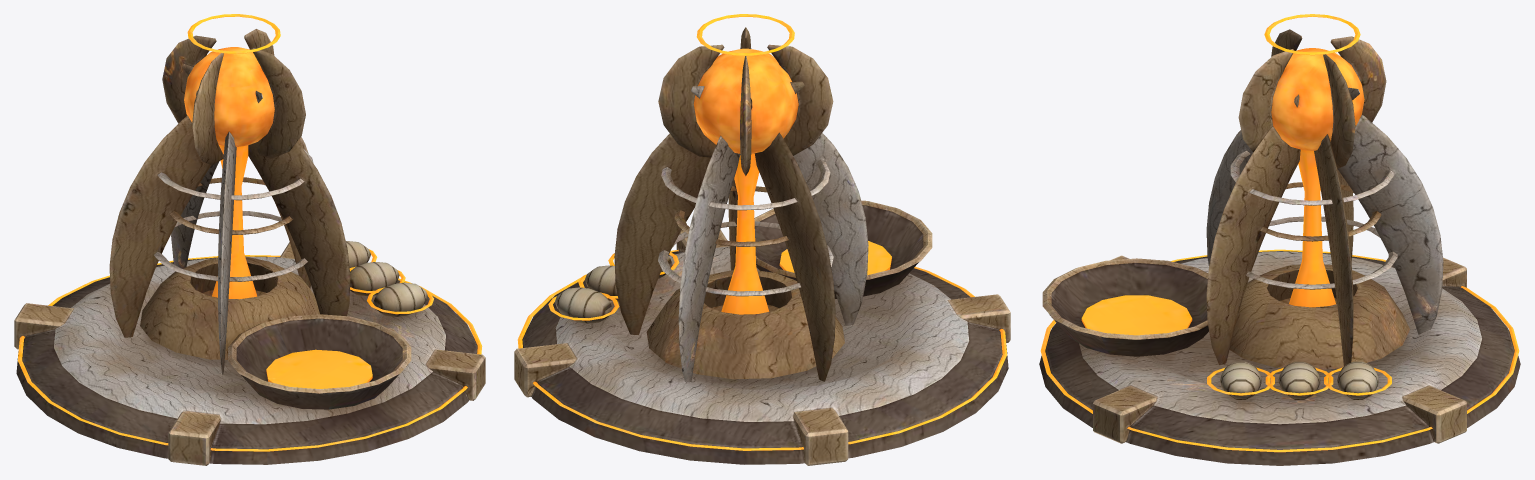
The model's file is kesh_metal_siphon.glb.
3 views of the same model, side by side, from view 1: azimuth 30°, elevation 25°; view 2: azimuth 150°, elevation 25°; view 3: azimuth 270°, elevation 25° (orthographic). The views are drawn at different scales.
Parts seen in each view (by area): view 1: Base, Horns, Turret, Basin; view 2: Base, Horns, Turret, Basin; view 3: Base, Horns, Turret, Basin.
Part boxes in pixels (x1,y1,x2,y2): Base: (14, 241, 485, 465); Horns: (109, 64, 350, 374); Turret: (154, 14, 313, 299); Basin: (228, 314, 411, 409); Base: (514, 229, 1010, 465); Horns: (614, 81, 868, 381); Turret: (658, 14, 833, 314); Basin: (754, 200, 932, 298); Base: (1039, 249, 1520, 465); Horns: (1206, 87, 1443, 366); Turret: (1230, 14, 1397, 307); Basin: (1042, 258, 1208, 356).
Bounding box in the file's own units: 7.4 × 5.64 × 7.4.
1 material, 1 textured.
